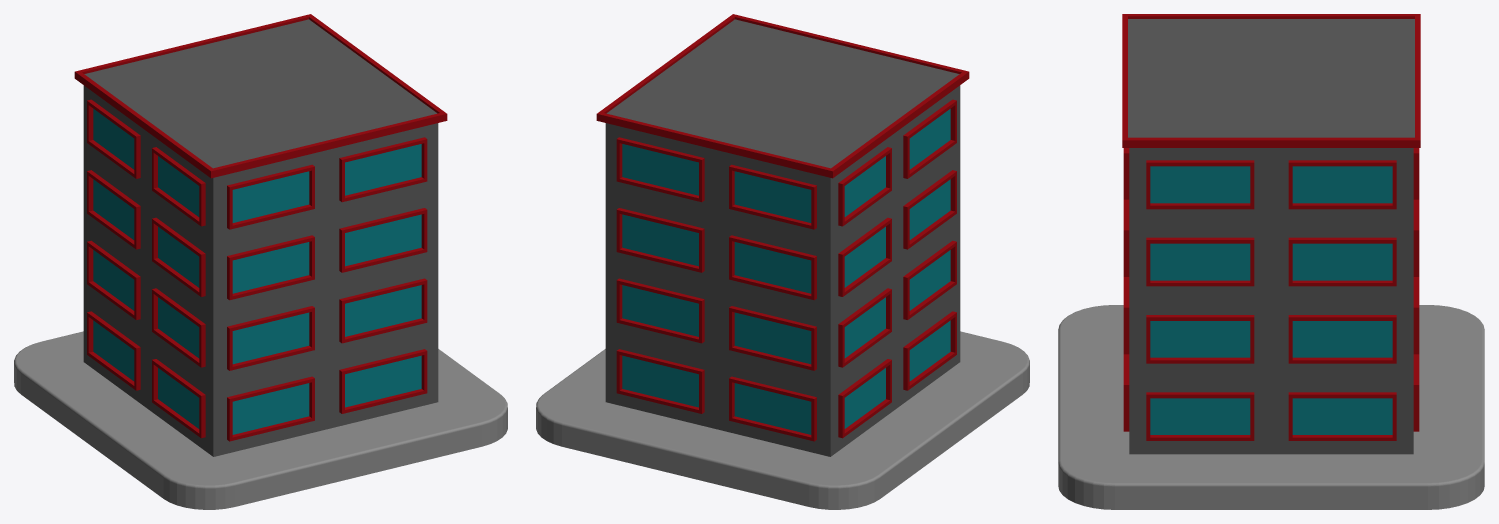
The model's file is structure_research_academy.fbx.
3 views of the same model, side by side, from view 1: azimuth 30°, elevation 25°; view 2: azimuth 150°, elevation 25°; view 3: azimuth 270°, elevation 25° (orthographic). The views are drawn at different scales.
Visible parts, largest first — view 1: ResearchAcademy; view 2: ResearchAcademy; view 3: ResearchAcademy.
Part boxes in pixels (left/top/right/bottom): ResearchAcademy: left=14, top=14, right=507, bottom=509; ResearchAcademy: left=536, top=14, right=1029, bottom=509; ResearchAcademy: left=1058, top=14, right=1484, bottom=509.
Size of the model in its own units: 0.75 by 0.75 by 0.665.
